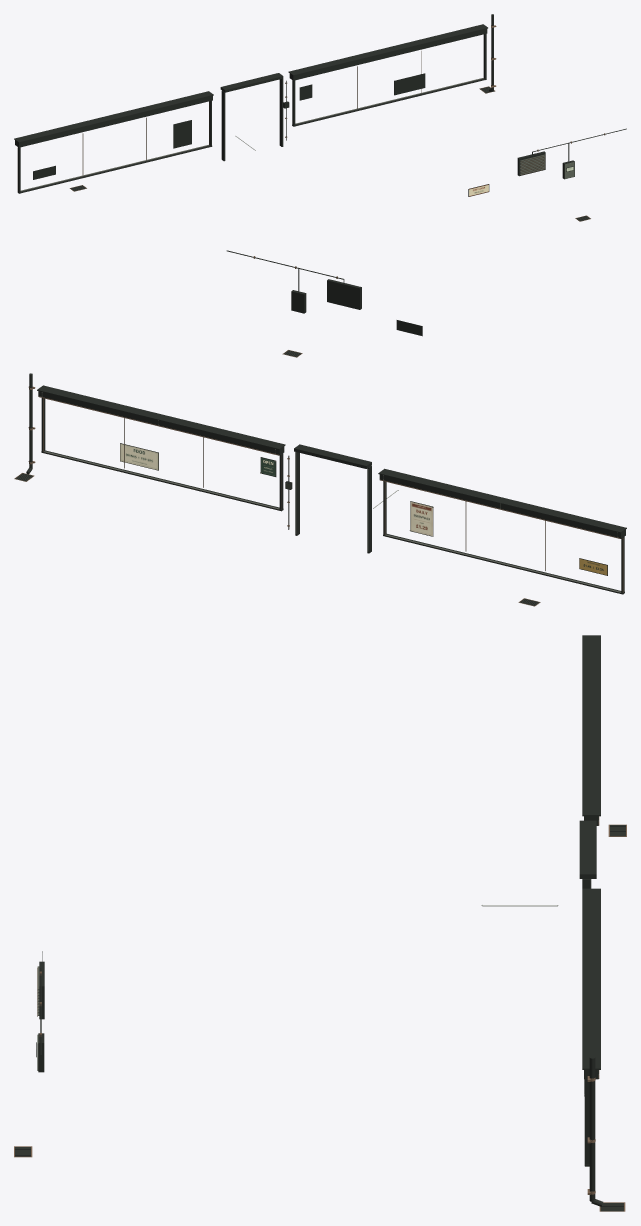
The model's file is heron-reach-lived.glb.
3 views of the same model, one above another, from view 1: azimuth 30°, elevation 25°; view 2: azimuth 150°, elevation 25°; view 3: azimuth 270°, elevation 25° (orthographic). The views are drawn at different scales.
Parts seen in each view (by area): view 1: lived/corner-and-service / hr_steel_black, lived/corner-and-service / hr_steel_galv, lived/corner-and-service / hr_steel_aged; view 2: lived/corner-and-service / hr_steel_black, lived/corner-and-service / hr_lived_atlas, lived/corner-and-service / hr_steel_aged, lived/corner-and-service / hr_steel_galv; view 3: lived/corner-and-service / hr_steel_black, lived/corner-and-service / hr_steel_galv.
Part boxes in pixels (left/top/right/bottom): lived/corner-and-service / hr_steel_black: left=14, top=14, right=626, bottom=196; lived/corner-and-service / hr_steel_galv: left=21, top=78, right=589, bottom=220; lived/corner-and-service / hr_steel_aged: left=17, top=25, right=605, bottom=221; lived/corner-and-service / hr_steel_black: left=26, top=250, right=626, bottom=594; lived/corner-and-service / hr_lived_atlas: left=120, top=443, right=607, bottom=575; lived/corner-and-service / hr_steel_aged: left=14, top=256, right=623, bottom=606; lived/corner-and-service / hr_steel_galv: left=16, top=350, right=620, bottom=605; lived/corner-and-service / hr_steel_black: left=36, top=635, right=603, bottom=1206; lived/corner-and-service / hr_steel_galv: left=15, top=816, right=625, bottom=1210.
Size of the model in its own units: 17.37 by 2.73 by 10.12.
Materials: 5 (1 with a texture image).
